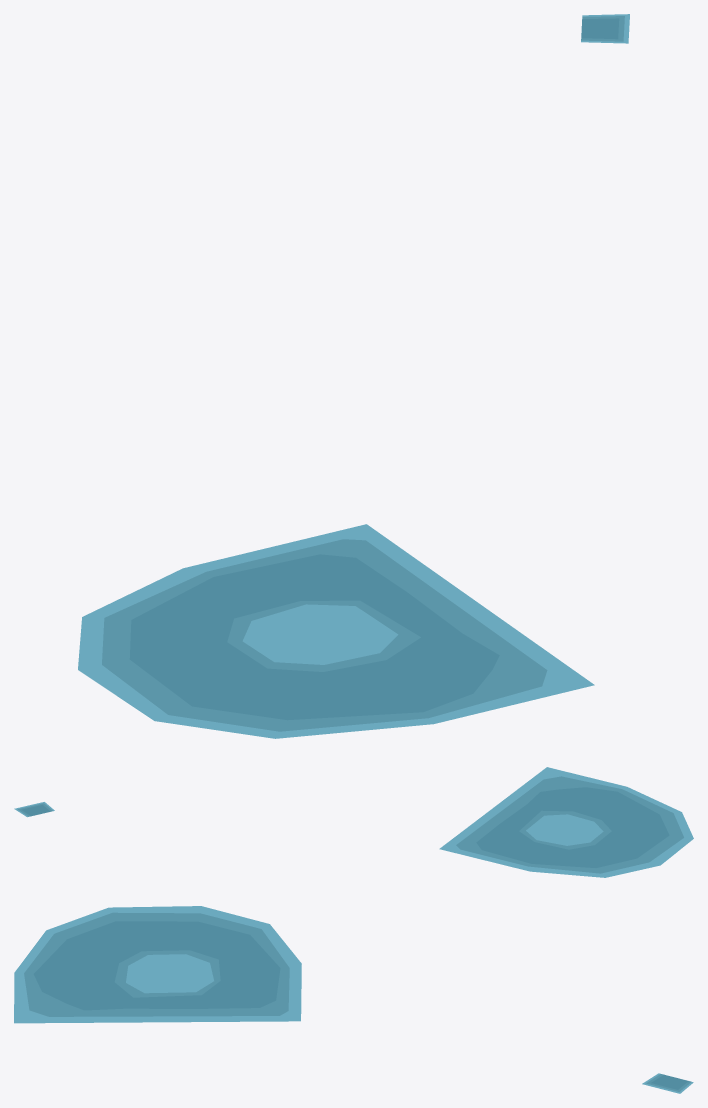
File: kd_connection_world-inner_surface_7_0.glb
3 views of the same model, one above another, from view 1: azimuth 30°, elevation 25°; view 2: azimuth 150°, elevation 25°; view 3: azimuth 270°, elevation 25° (orthographic). The views are drawn at different scales.
Parts seen in each view (by area): view 1: kd_connection_world-inner_surface_7_0; view 2: kd_connection_world-inner_surface_7_0; view 3: kd_connection_world-inner_surface_7_0.
Part boxes in pixels (x1=…): kd_connection_world-inner_surface_7_0: x1=78, y1=14, x2=629, y2=738; kd_connection_world-inner_surface_7_0: x1=14, y1=767, x2=693, y2=877; kd_connection_world-inner_surface_7_0: x1=14, y1=906, x2=693, y2=1093.
Size of the model in its own units: 85.66 by 14.14 by 84.6.
1 material, 1 textured.
